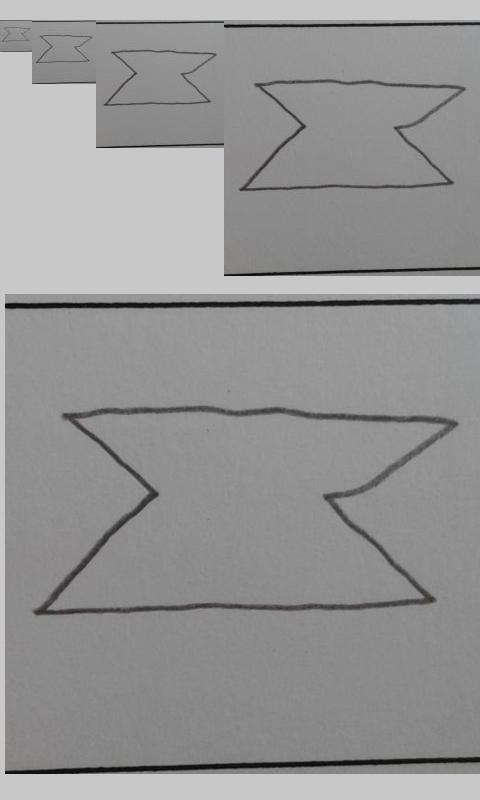edit_text: (31, 405, 459, 618), (240, 78, 469, 191), (104, 49, 218, 106), (35, 34, 92, 64), (2, 26, 31, 42)
